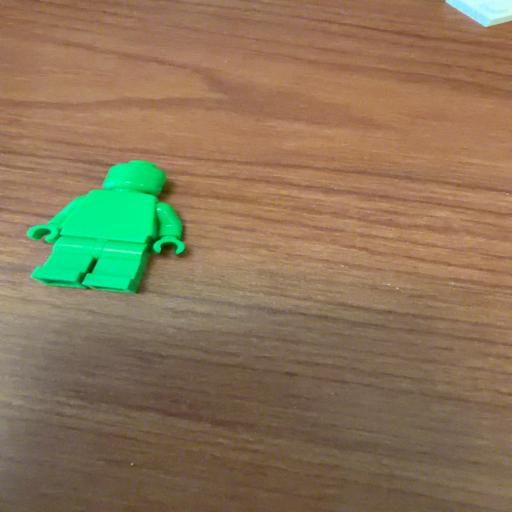UnoQ-minifig-detector: (27, 161, 185, 293)
